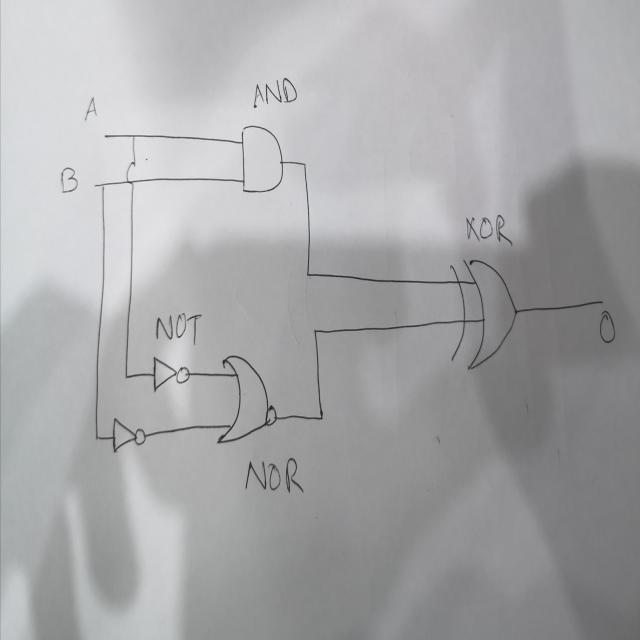crossover: (124, 157, 137, 187)
junction: (314, 404, 326, 427), (300, 155, 309, 173), (311, 323, 320, 338), (304, 267, 311, 281), (100, 180, 107, 192), (94, 431, 100, 444), (130, 130, 137, 141), (123, 371, 129, 382)
terminal: (102, 130, 108, 141), (598, 295, 604, 305), (92, 181, 98, 190)
text: (246, 454, 305, 500), (154, 309, 204, 348), (463, 211, 514, 246), (252, 76, 299, 109), (598, 308, 616, 346), (60, 165, 78, 193), (83, 94, 98, 119)
